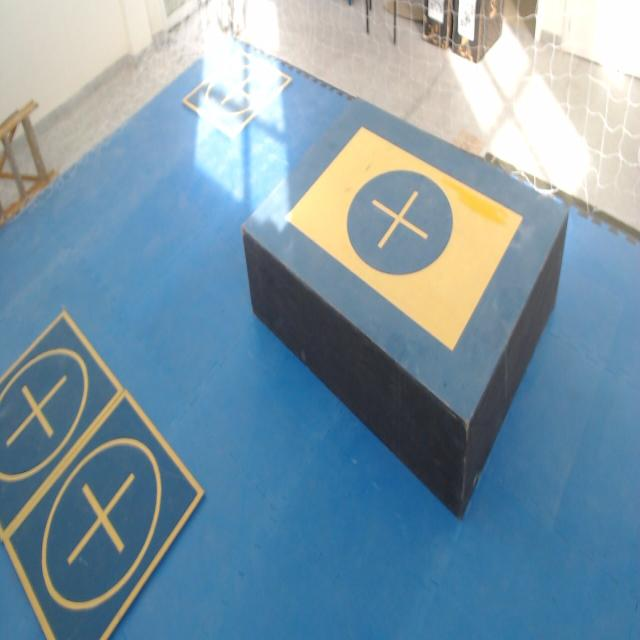base_inicio: (282, 127, 523, 354)
base_pouso: (5, 388, 207, 639), (0, 310, 125, 549), (179, 44, 293, 137)
